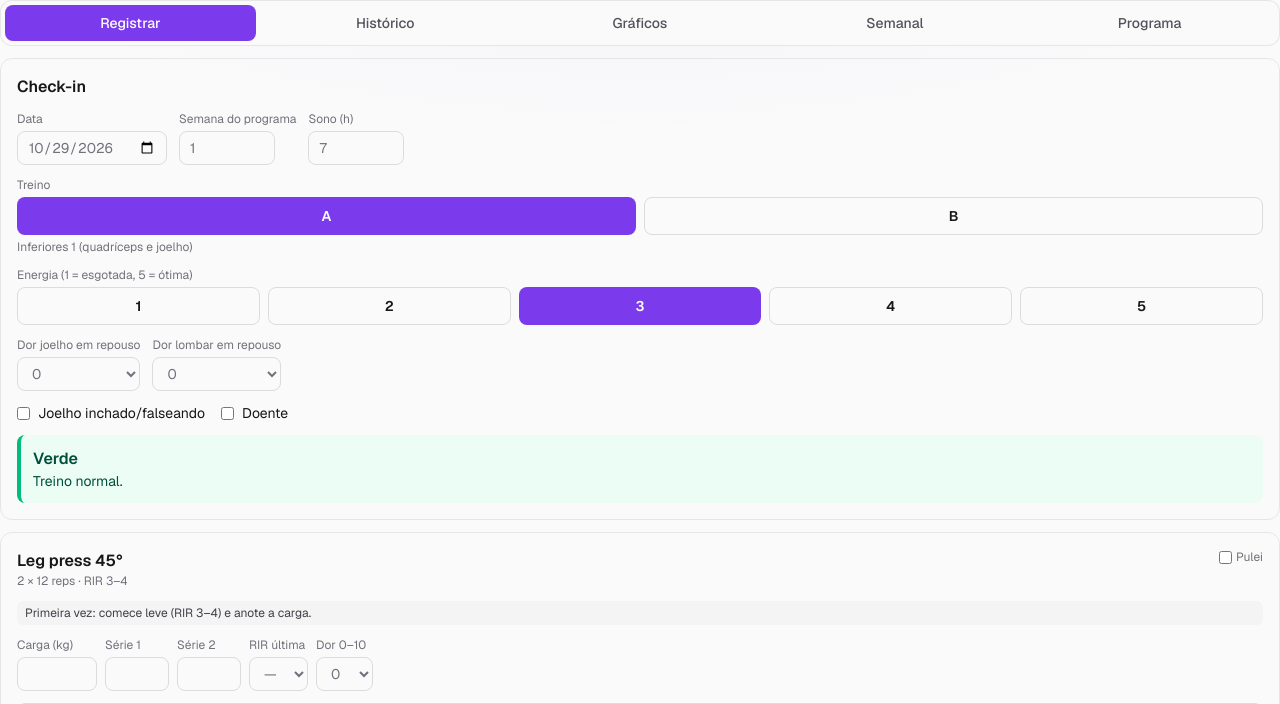
Test: TreinosWorkspace › semáforo reage ao check-in
The width and height of the screenshot is (1280, 704).
Expected: the text "Verde" is shown, [33, 448, 78, 469]
Click the checkbox labelled "Doente": [228, 413] box [221, 406, 234, 420]
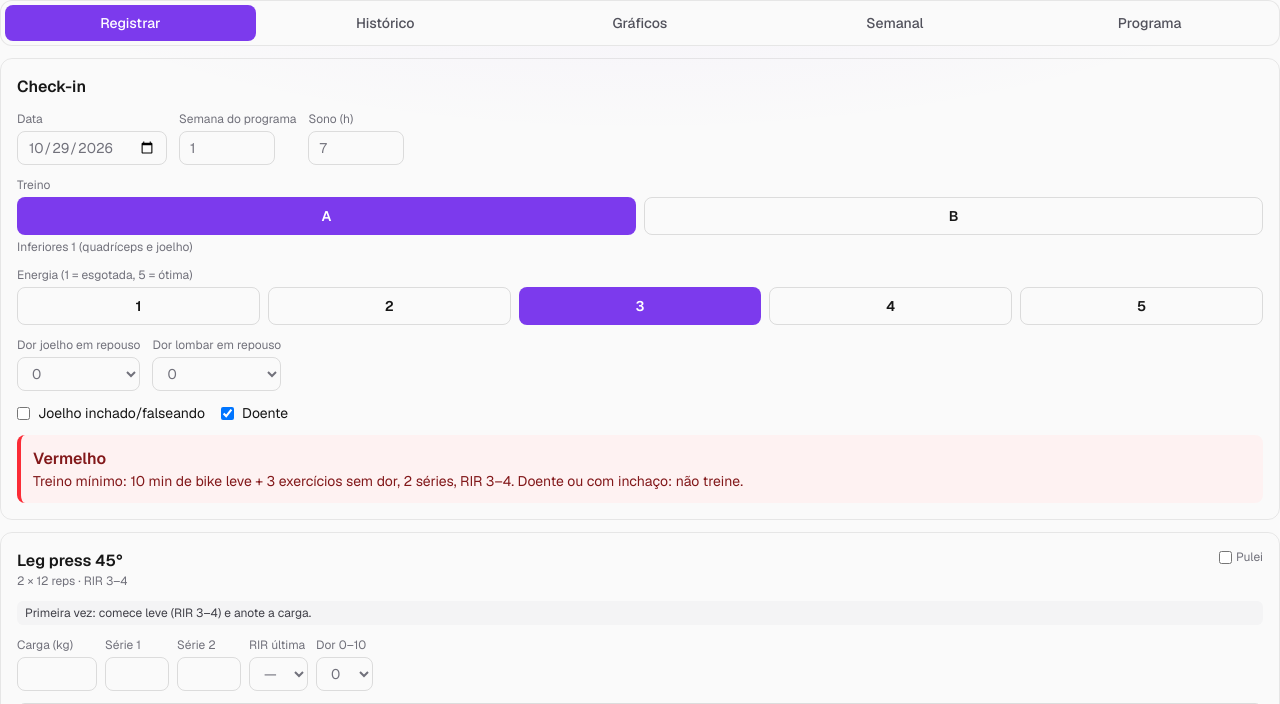
Now the text "Vermelho" is shown, box [33, 448, 106, 469]
